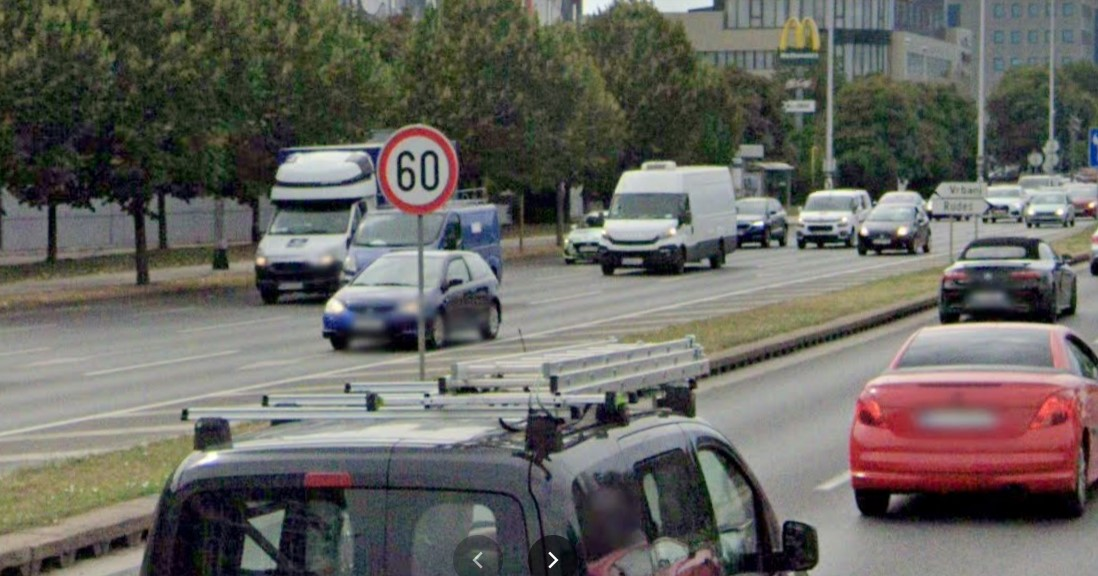Ograničenje brzine 60: (376, 124, 459, 214)
